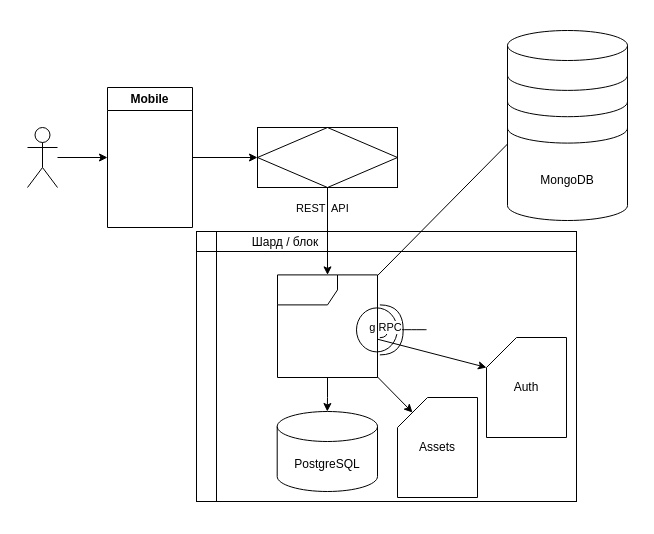
Some shapes in this 654 by 534 pixel diagram are drawn without their labels. The shapes that lost their labels are listed below. From the top down, each one's centre as x and y in pixels, then its label:
At point 42,157: "Actor".
At point 327,157: "API Gateway".
At point 327,326: "favorites".
